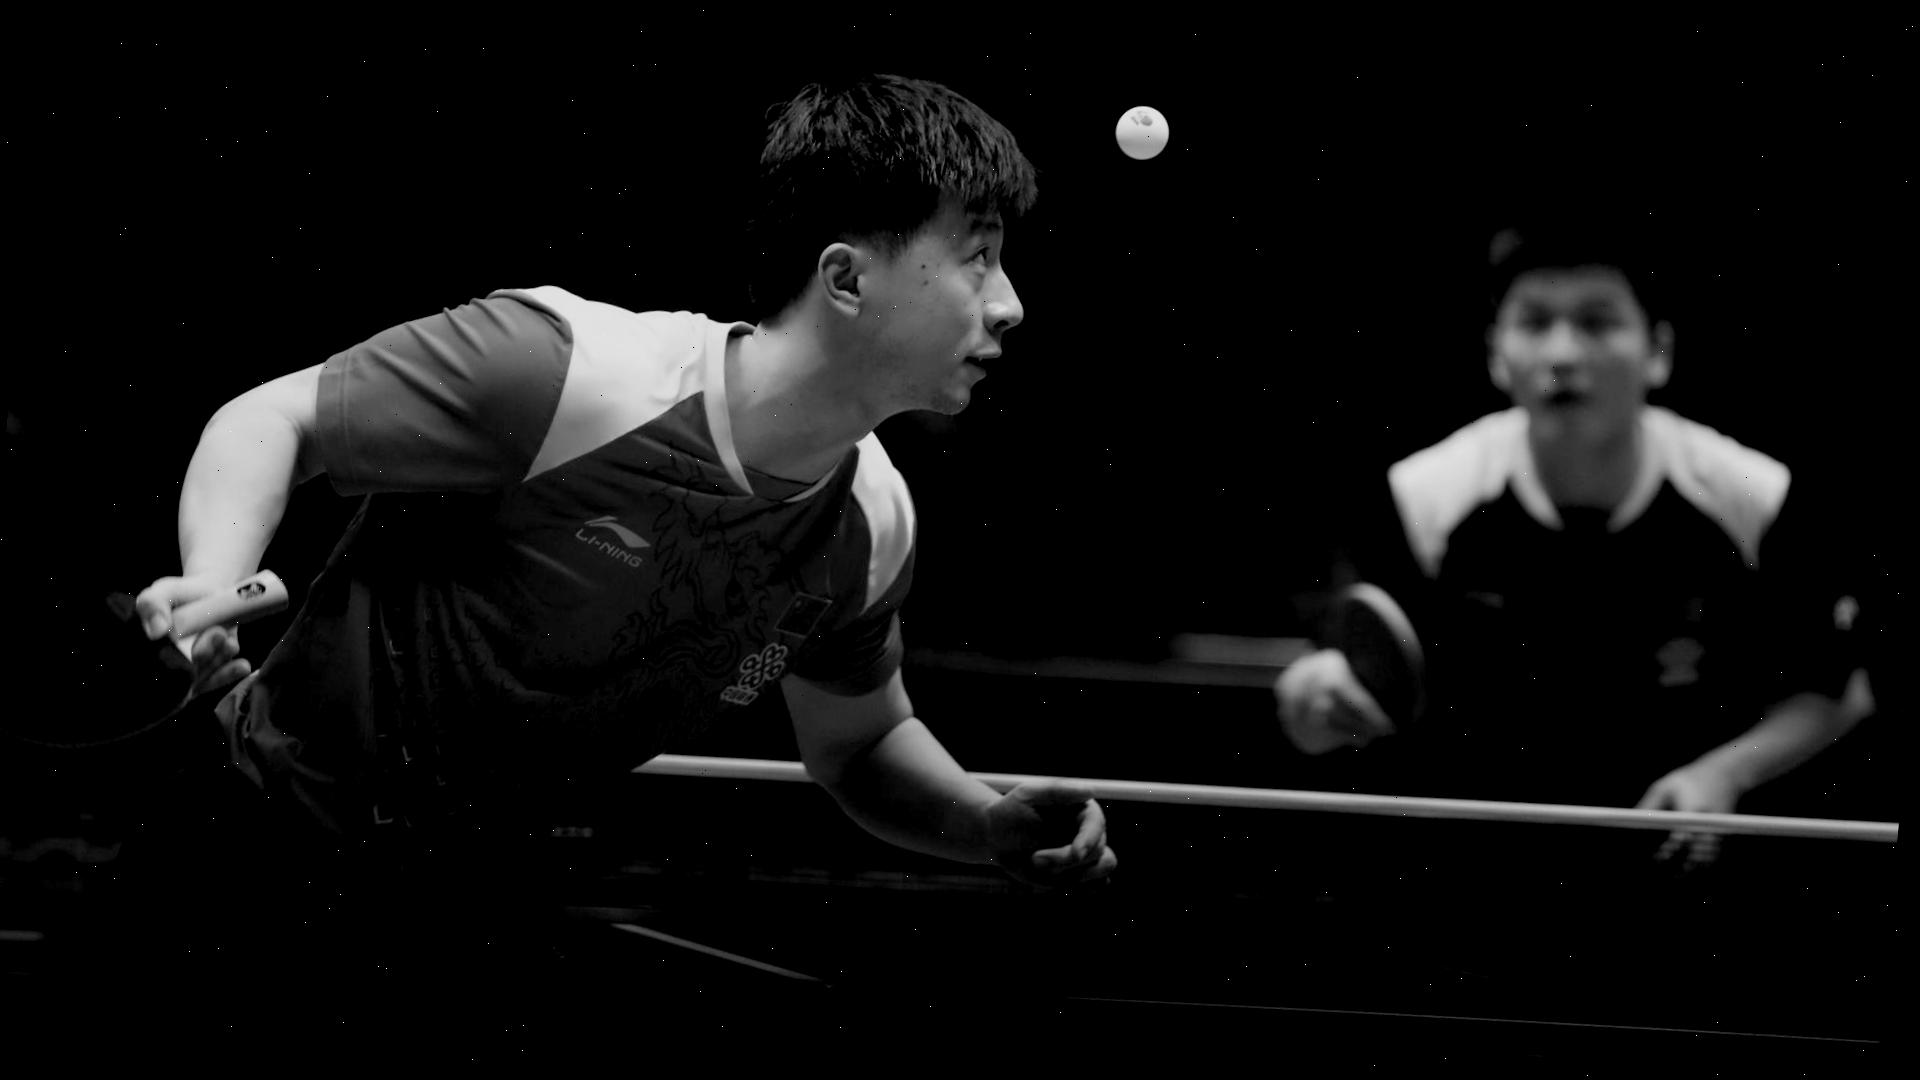ball: (1102, 87, 1180, 175)
